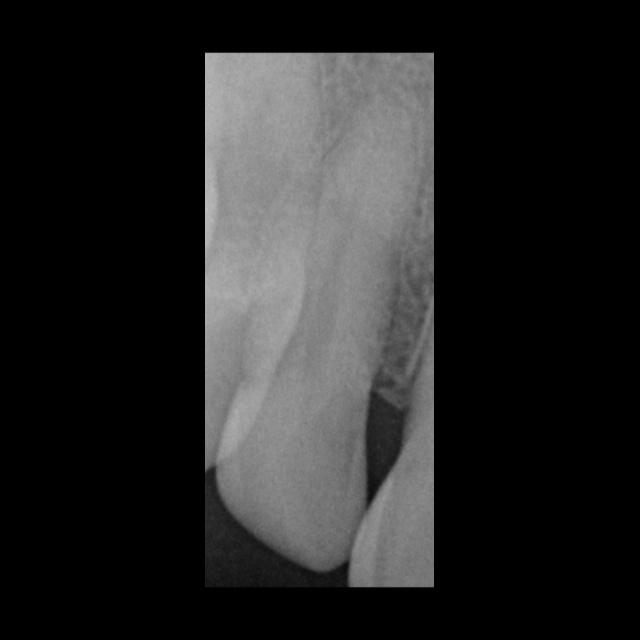tooth: (214, 83, 420, 572)
